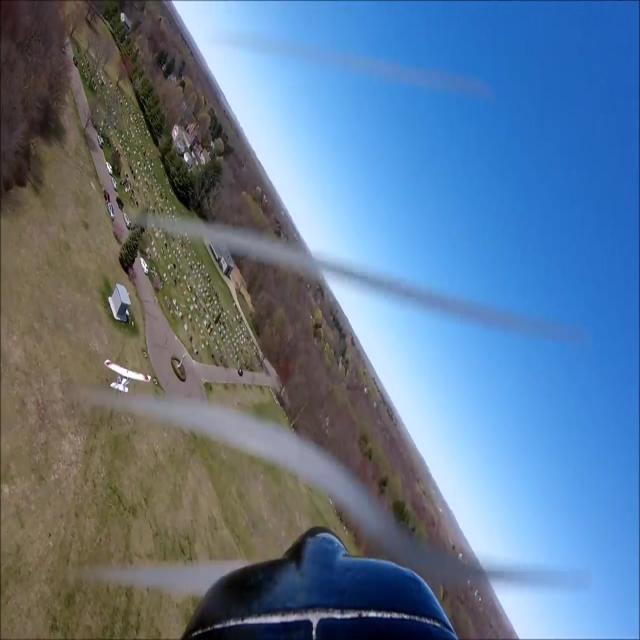iha: (104, 358, 153, 395)
